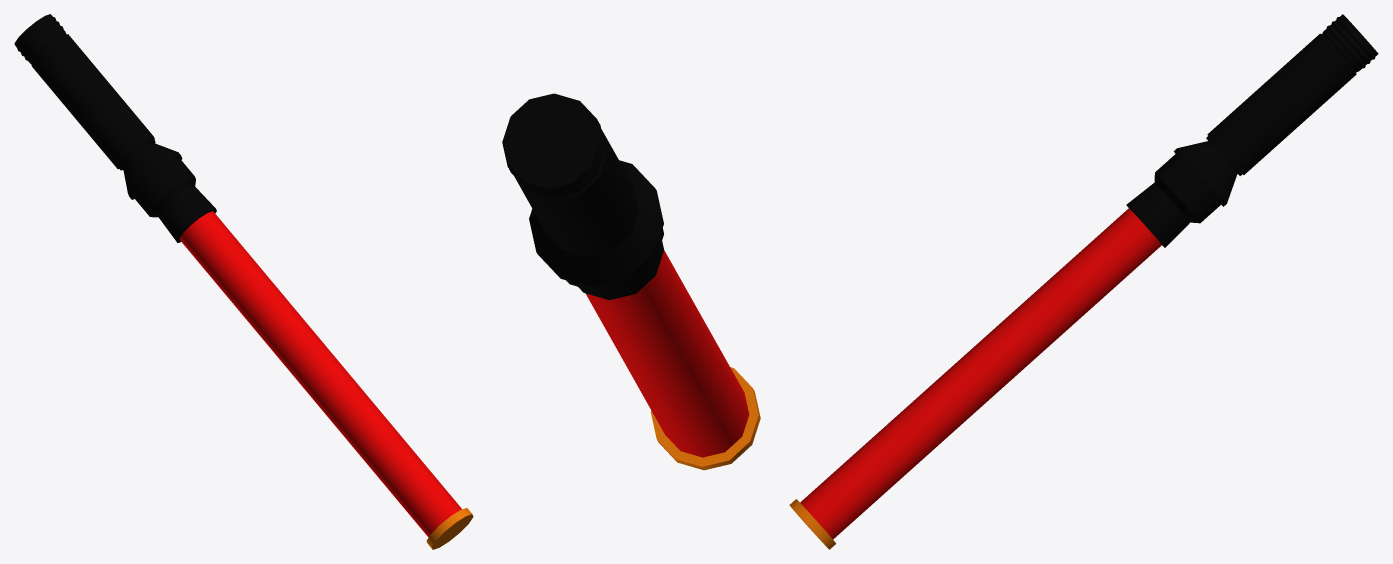
The model's file is WEAPON_MIDDLE_THROW.fbx.
3 renders of one model, left to right at view 1: azimuth 30°, elevation 25°; view 2: azimuth 150°, elevation 25°; view 3: azimuth 270°, elevation 25°, orthographic. The views are drawn at different scales.
Visible parts, largest first — view 1: WEAPON1; view 2: WEAPON1; view 3: WEAPON1.
Part boxes in pixels (box(x1,y1,x2,y2)): WEAPON1: box(14, 14, 473, 549); WEAPON1: box(502, 93, 760, 470); WEAPON1: box(789, 14, 1378, 549).
Size of the model in its own units: 3.65 by 6.56 by 7.91.
